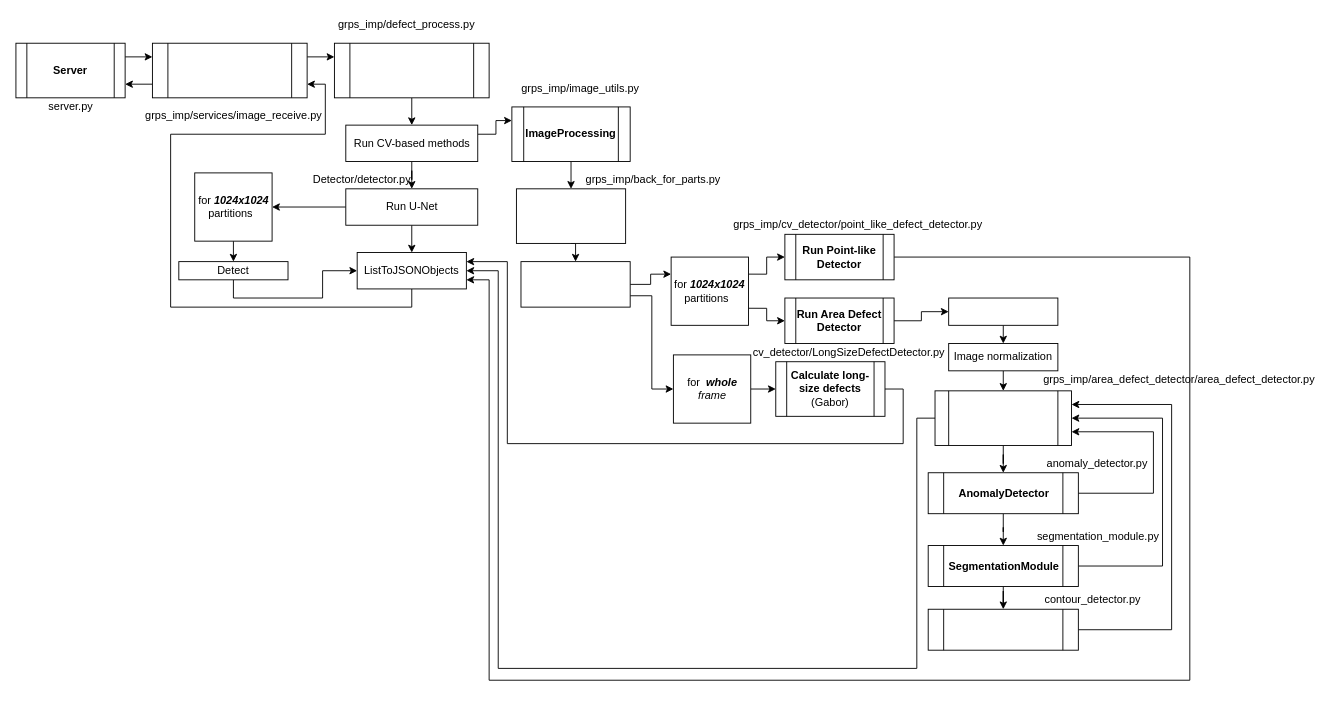
This 1335x703 diagram has some shape labels left out. The box of each missing label's shape, as (x1, y1, x2, y2) in pixels:
4x4 partitioning: (948, 297, 1058, 325)
AreaDefectDetector: (934, 390, 1072, 445)
Change background: (516, 188, 626, 243)
CountourDetector: (927, 608, 1078, 650)
DefectProcess: (334, 42, 489, 98)
ImageReceiveServicer: (152, 42, 307, 98)
Splitter(): (520, 261, 630, 307)
